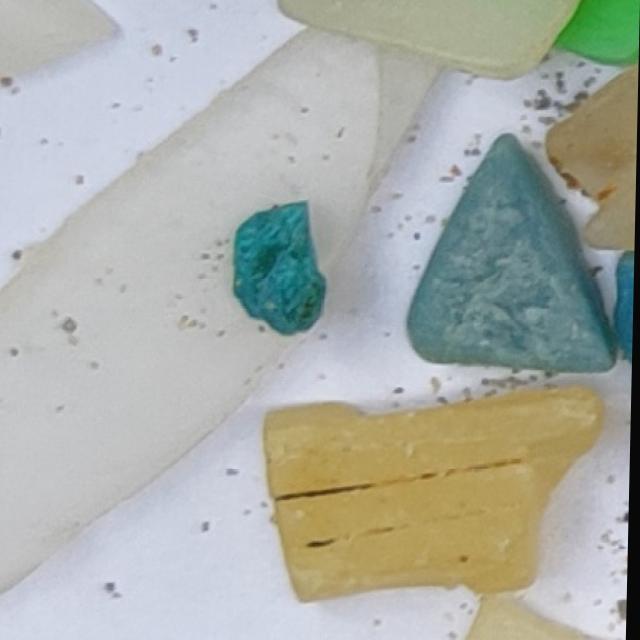microplastic: (408, 132, 620, 375), (221, 202, 335, 343)
